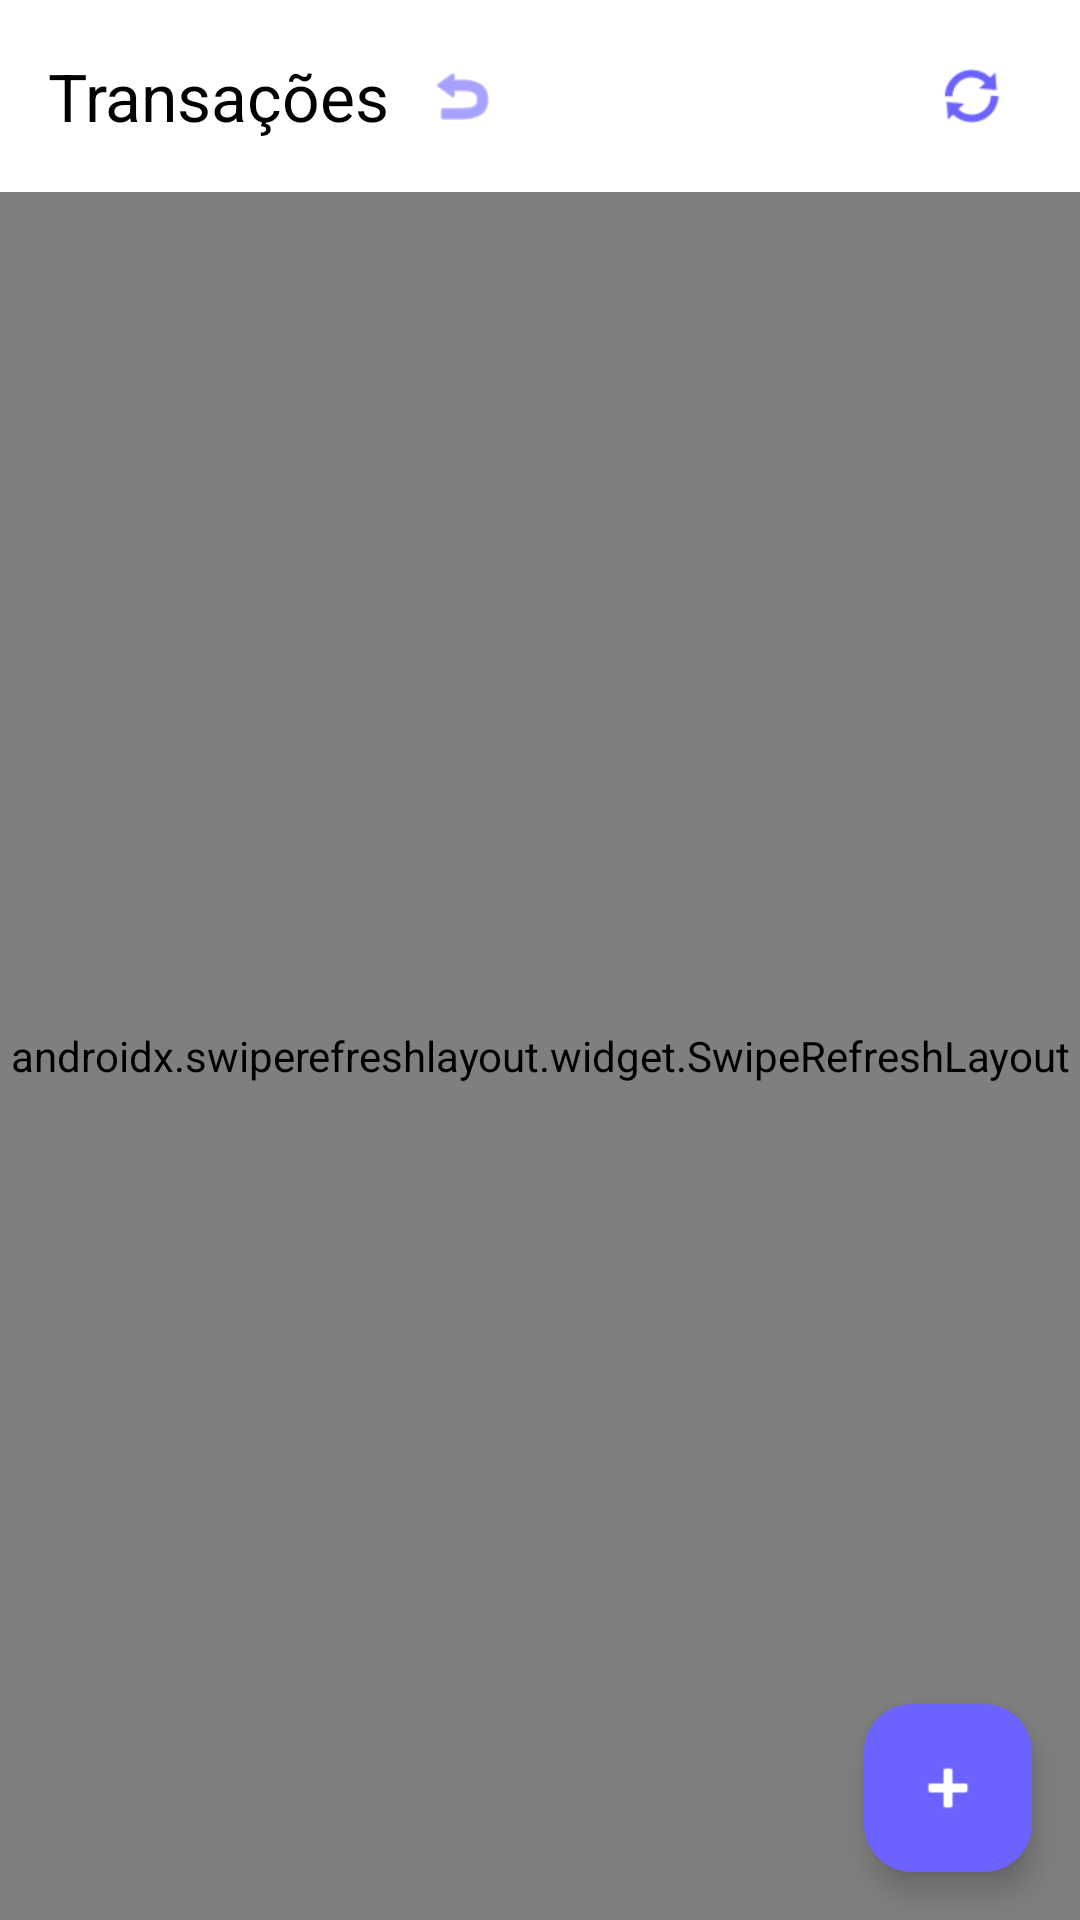

Point at icon controls on the screen. Image size 1080x1920, points as point (x, y).
add: point (948, 1788)
popup sync: point (972, 96)
revert: point (463, 96)
